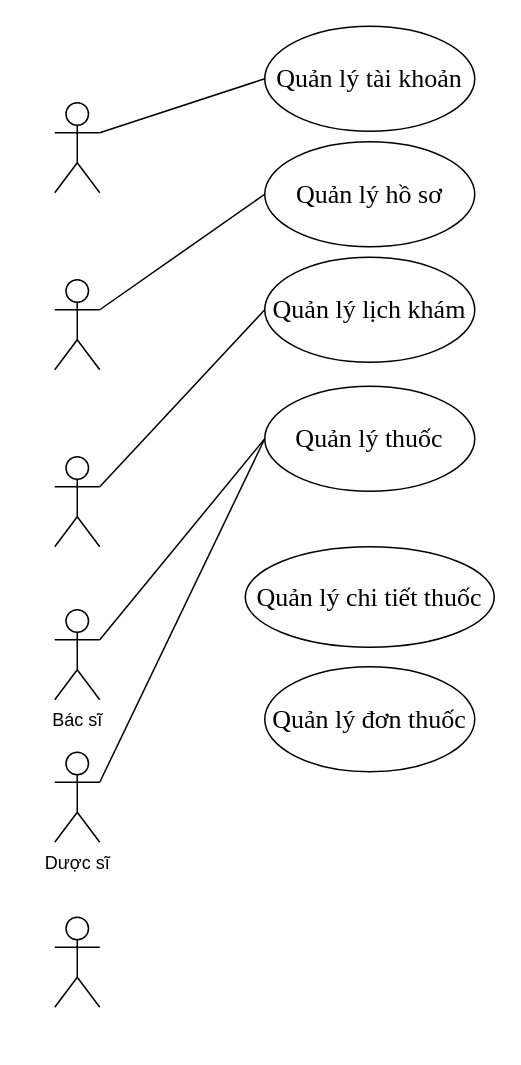
Some shapes in this 521 by 1065 pixel diagram are drawn without their labels. The shapes that lost their labels are listed below. From the top down, each one's centre as x and y in pixels, then its label:
the point at 76,147: Quản trị viên
the point at 76,324: Người dùng
the point at 76,501: Y tá
the point at 76,961: Thủ kho
